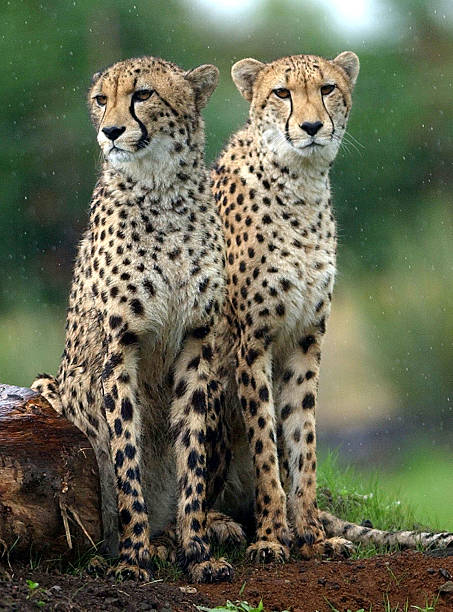cheetah: (75, 52, 230, 192), (228, 49, 384, 173)
